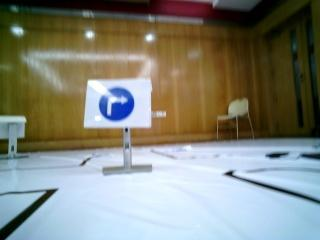right: (90, 78, 151, 128)
